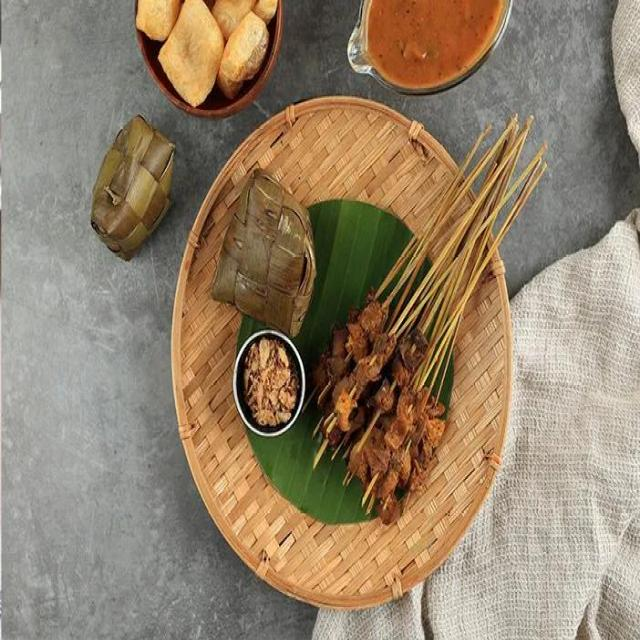Sate: (315, 123, 556, 512)
